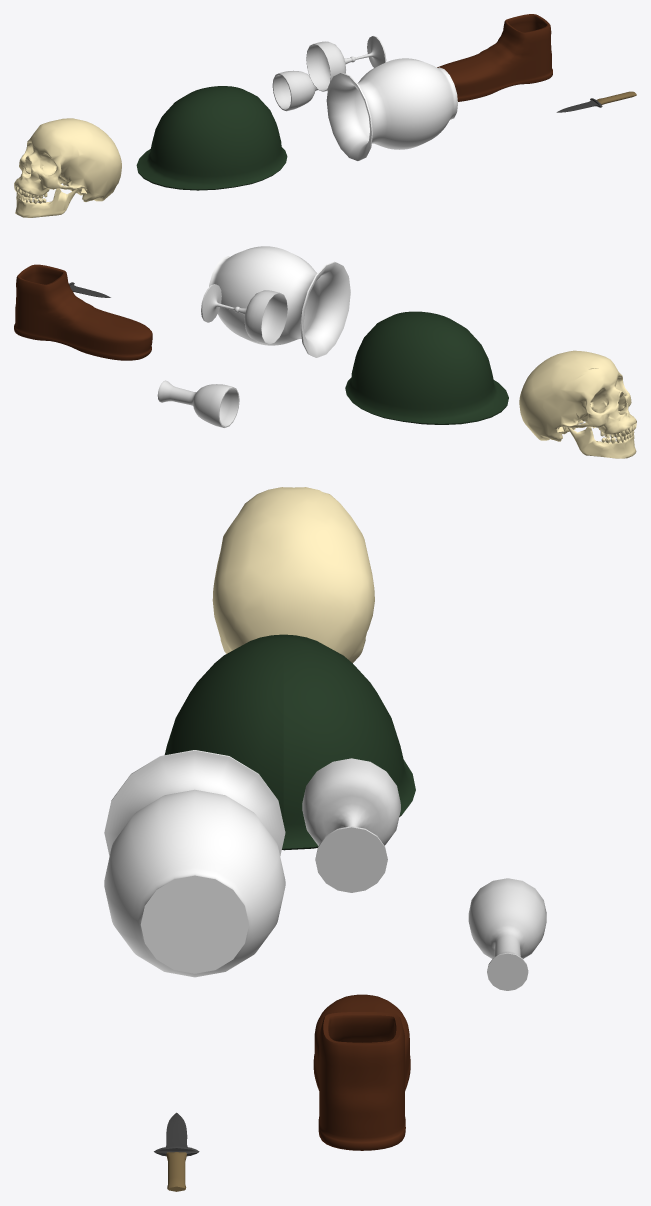
File: MoreObjects.FBX
The picture shows the model from 3 angles, top to bottom: view 1: azimuth 30°, elevation 25°; view 2: azimuth 150°, elevation 25°; view 3: azimuth 270°, elevation 25°; orthographic projection. The views are drawn at different scales.
Parts seen in each view (by area): view 1: Helmet, Vase, Human_Skull, Boot, Goblet_1, Goblet_2, Dagger; view 2: Helmet, Vase, Human_Skull, Boot, Goblet_1, Goblet_2; view 3: Vase, Helmet, Human_Skull, Boot, Goblet_1, Goblet_2, Dagger.
Part boxes in pixels (x1,y1,x2,y2): Helmet: (136,86,287,190); Vase: (326,58,457,160); Human_Skull: (14,118,121,217); Boot: (437,14,552,101); Goblet_1: (306,36,386,91); Goblet_2: (272,70,346,111); Dagger: (556,91,636,112); Helmet: (345,311,508,424); Vase: (209,246,350,357); Human_Skull: (519,350,636,458); Boot: (14,264,152,360); Goblet_1: (201,284,287,344); Goblet_2: (157,380,239,427); Vase: (104,750,285,977); Helmet: (164,634,415,850); Human_Skull: (212,487,374,662); Boot: (313,994,410,1150); Goblet_1: (302,758,400,892); Goblet_2: (468,878,546,990); Dagger: (154,1112,199,1191).
Bounding box in the file's own units: 150 × 22.92 × 48.84.
